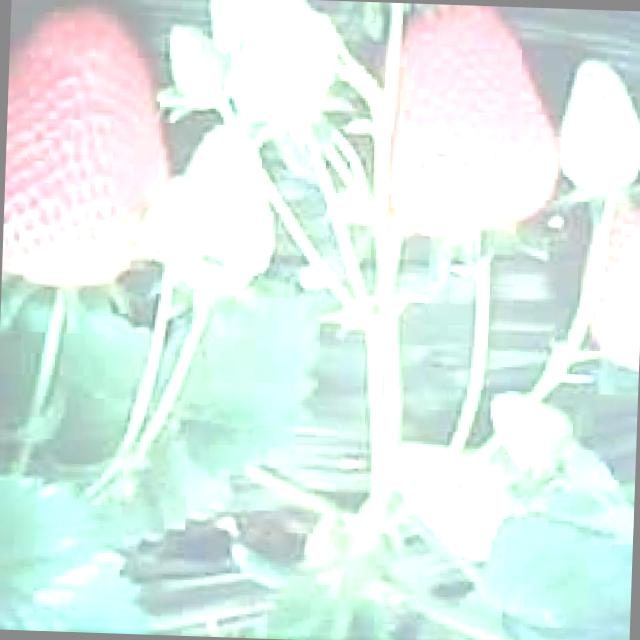Strawberry: (1, 3, 177, 286), (384, 2, 563, 240), (167, 127, 275, 301), (208, 0, 335, 123), (556, 58, 640, 192), (583, 208, 640, 371), (488, 391, 574, 477)
